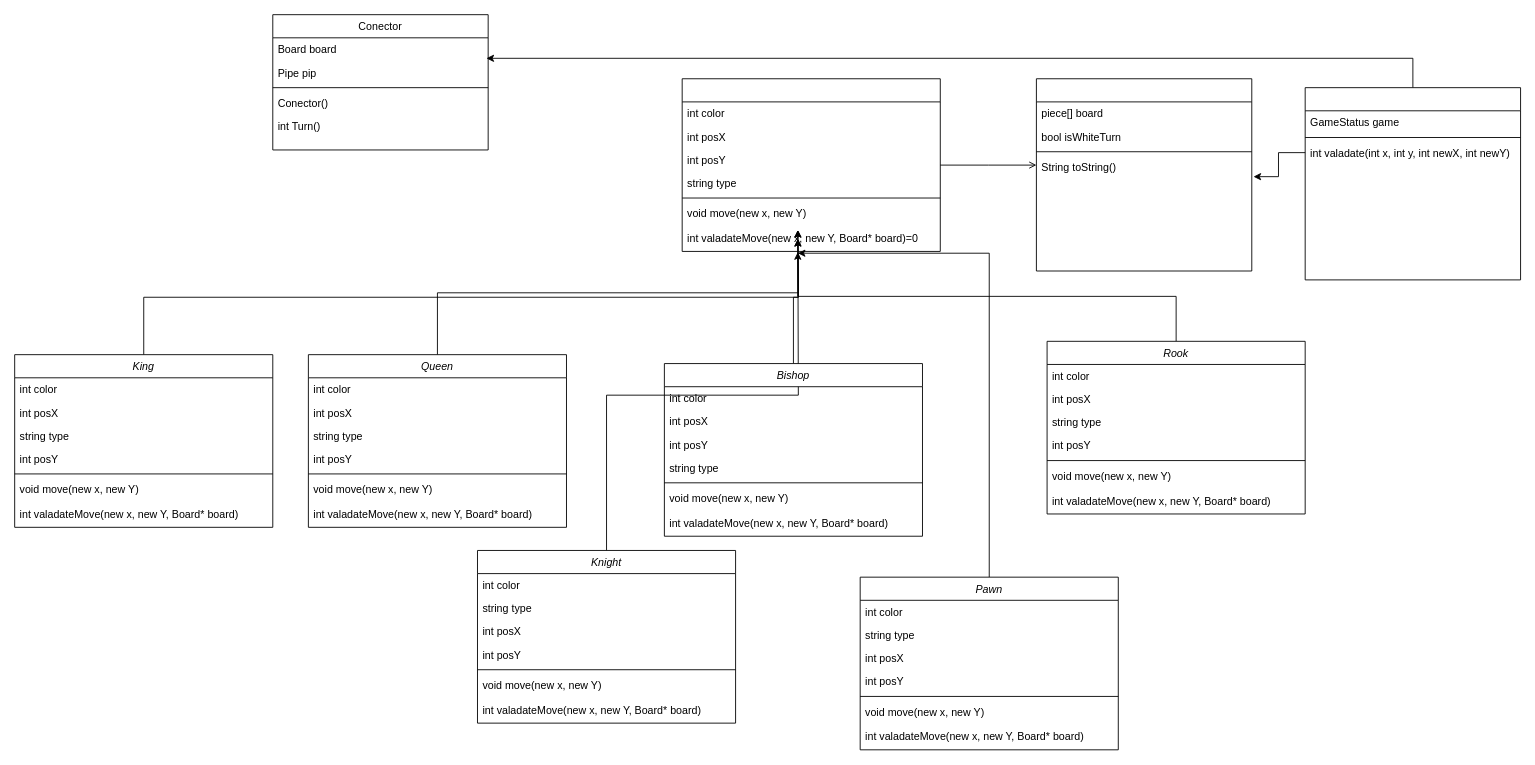
The diagram is 1535 pixels wide and 765 high, and some of its shapes have lost their labels. Each missing label, with the box of its shape:
Board: (1304, 87, 1521, 280)
GameStatus: (1036, 78, 1252, 271)
Piece: (681, 78, 940, 251)
